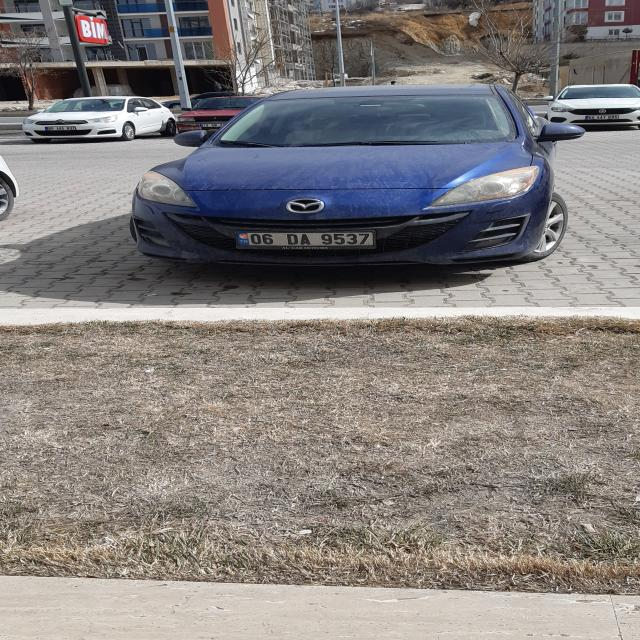plate: (237, 231, 376, 247)
